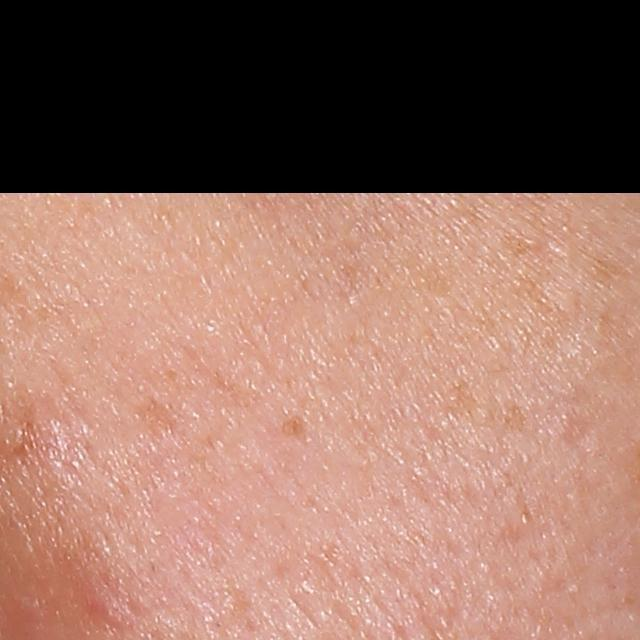melasma: (439, 378, 534, 542), (130, 397, 181, 443), (589, 252, 631, 283), (276, 415, 311, 452)
